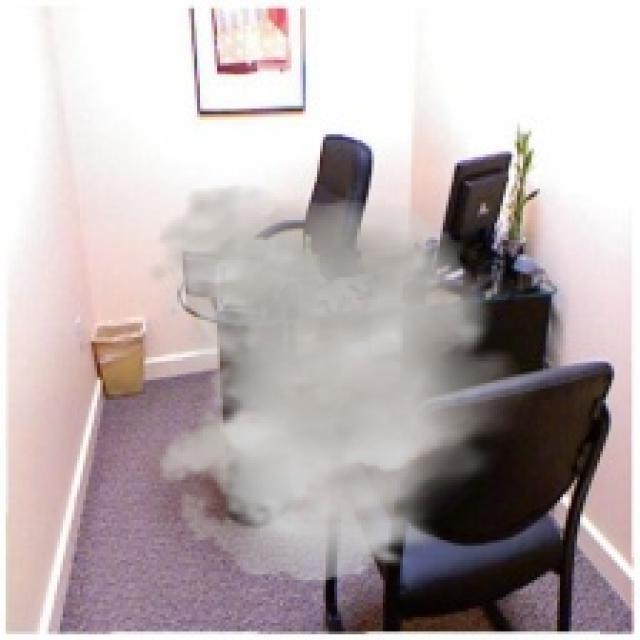Smoke: (143, 183, 543, 583)
